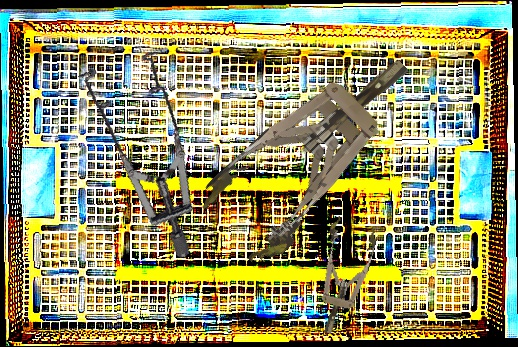Speculum: (198, 29, 440, 268), (191, 43, 421, 271), (40, 34, 236, 260), (303, 214, 381, 340)
